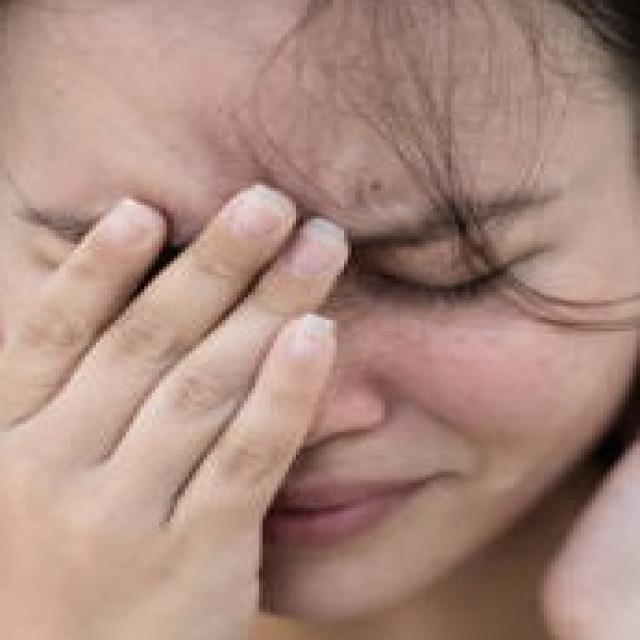Anxiety: (0, 2, 636, 618)
